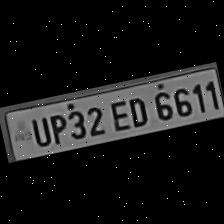1: (199, 76, 222, 112), (186, 80, 206, 114)
2: (82, 102, 108, 138)
3: (62, 106, 87, 142)
6: (146, 88, 174, 124), (168, 84, 194, 119)
D: (124, 92, 151, 128)
E: (104, 96, 131, 134)
P: (46, 109, 68, 145)
U: (26, 113, 50, 148)
